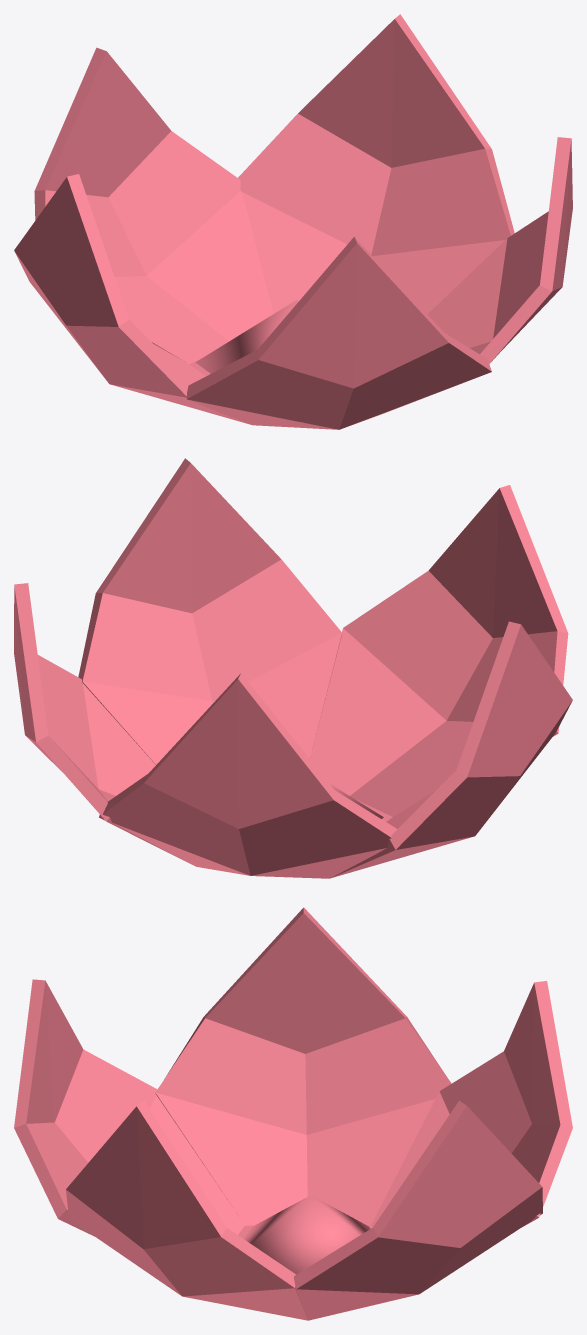
File: Corolla1.DAE
3 renders of one model, top to bottom at view 1: azimuth 30°, elevation 25°; view 2: azimuth 150°, elevation 25°; view 3: azimuth 270°, elevation 25°, orthographic. The views are drawn at different scales.
Parts seen in each view (by area): view 1: pink_water_lily_Plane_007; view 2: pink_water_lily_Plane_007; view 3: pink_water_lily_Plane_007.
Boxes of the visible parts, x1=… form: pink_water_lily_Plane_007: x1=14, y1=14, x2=572, y2=429; pink_water_lily_Plane_007: x1=14, y1=458, x2=572, y2=878; pink_water_lily_Plane_007: x1=14, y1=907, x2=572, y2=1320.
Size of the model in its own units: 2.64 by 1.43 by 2.84.
